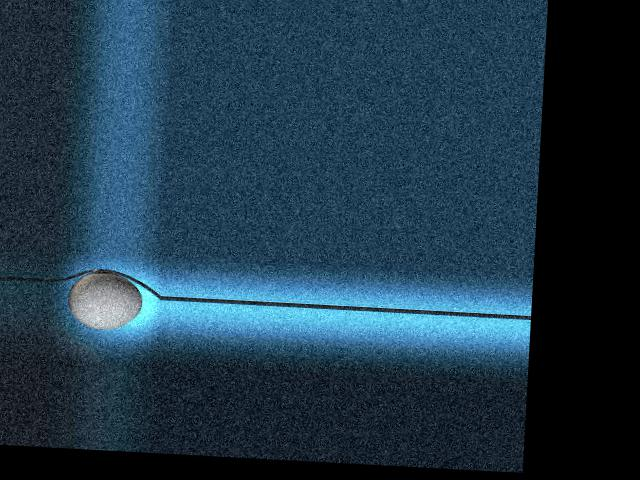egg: (66, 270, 143, 330)
